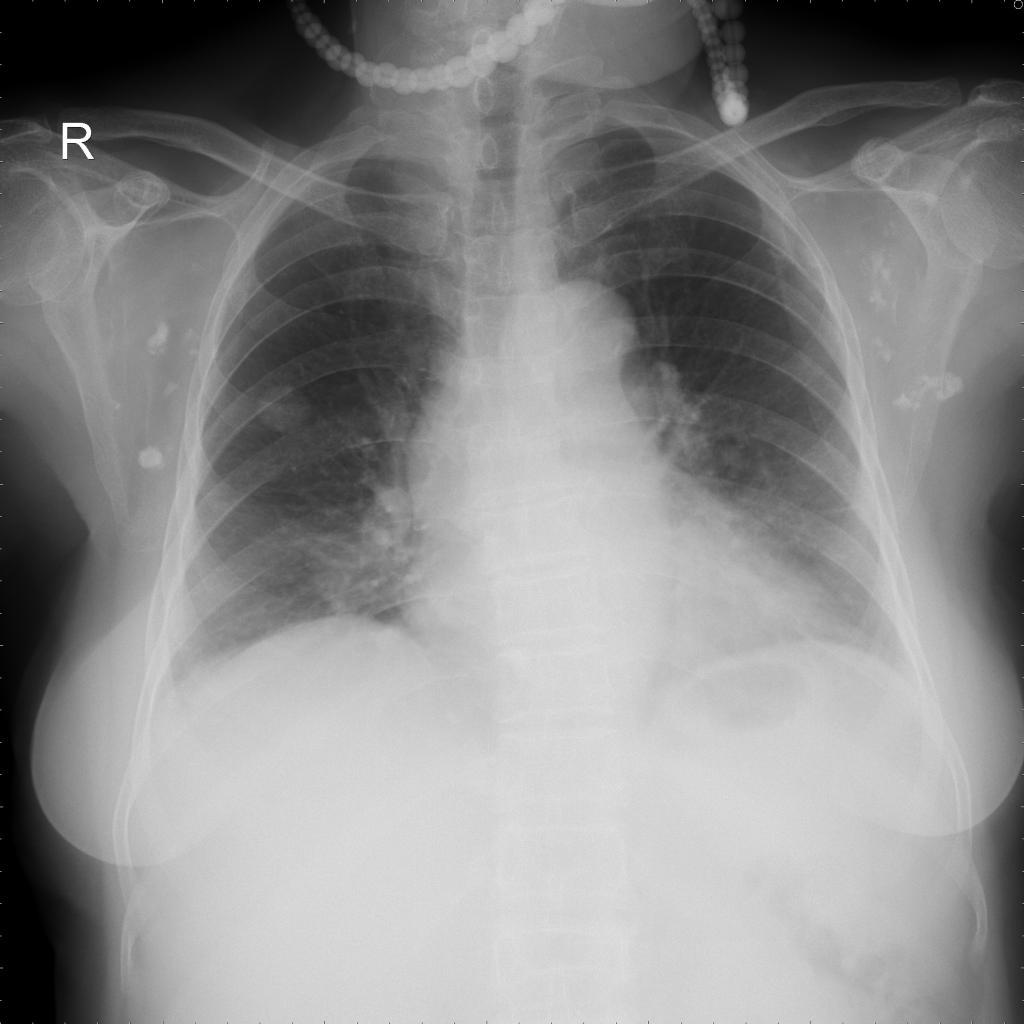Nodule: (263, 386, 310, 430)
